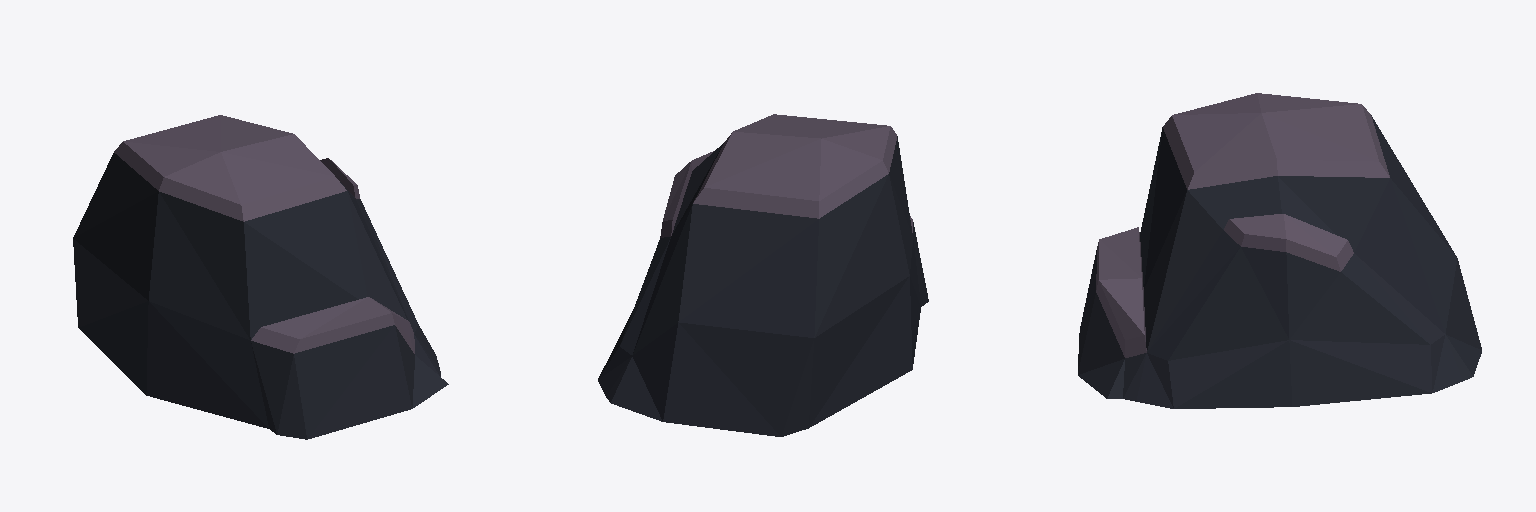
The model's file is Rock_Snow_5.obj.
The picture shows the model from 3 angles: view 1: azimuth 30°, elevation 25°; view 2: azimuth 150°, elevation 25°; view 3: azimuth 270°, elevation 25°; orthographic projection.
Visible parts, largest first — view 1: Rock_Snow_5_Cube.076; view 2: Rock_Snow_5_Cube.076; view 3: Rock_Snow_5_Cube.076.
Part boxes in pixels (x1,y1,x2,y2): Rock_Snow_5_Cube.076: (73,115,448,439); Rock_Snow_5_Cube.076: (598,114,928,436); Rock_Snow_5_Cube.076: (1078,93,1481,408).
Bounding box in the file's own units: 0.6632 × 0.6055 × 0.9148.